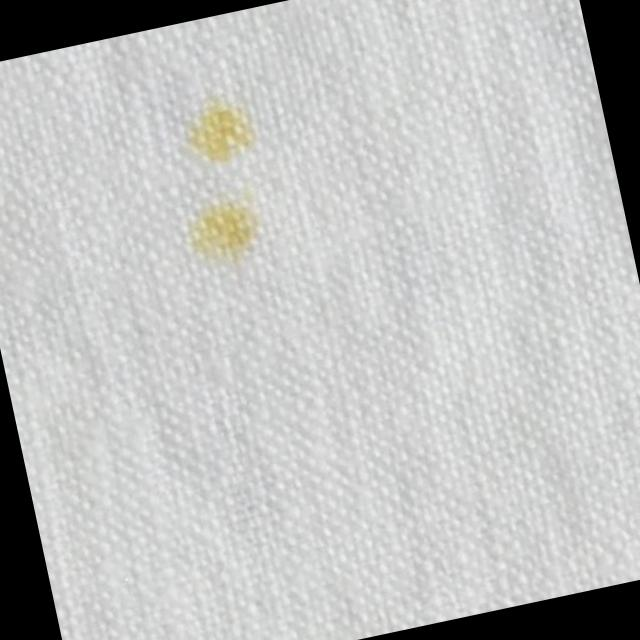Stain: (191, 197, 260, 260), (188, 101, 258, 163)
